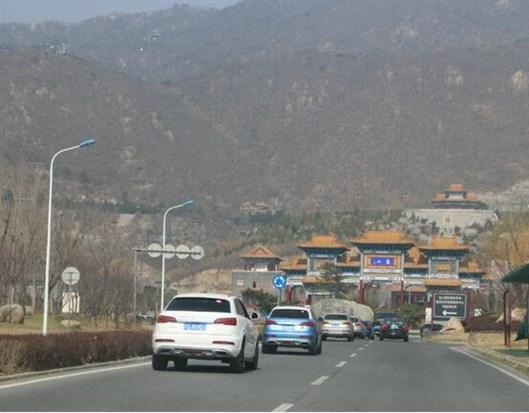car: (151, 291, 261, 370), (259, 304, 326, 355), (318, 310, 356, 342), (378, 316, 410, 342), (418, 320, 452, 338), (340, 315, 364, 338), (356, 318, 375, 340), (370, 317, 390, 337)
